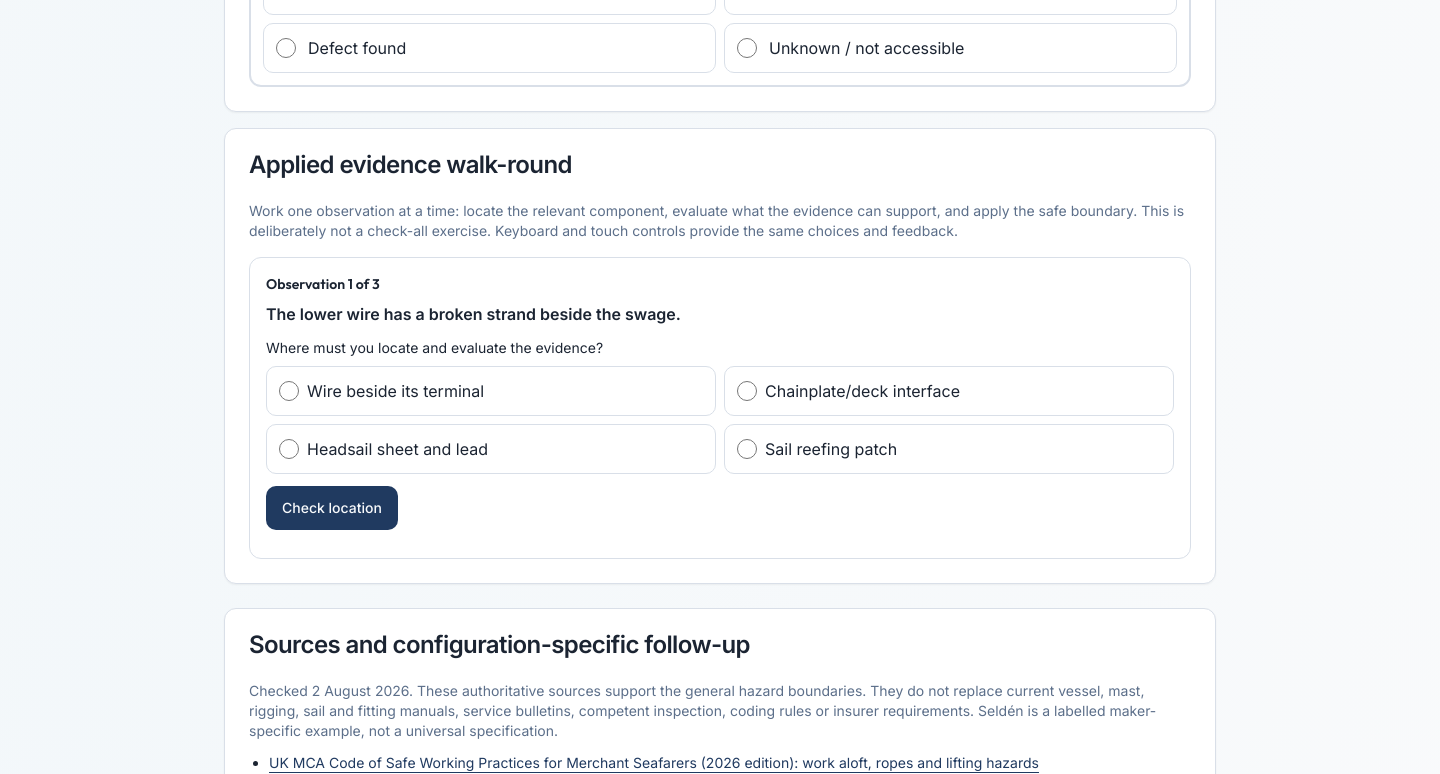
Scenario: RigTheory honest durable outcomes › blocks completion until the safe evidence decision is correct
(page scrolled)
Click the radio button labelled "Wire beside its terminal".
click(289, 391)  # box [279,381,299,401]
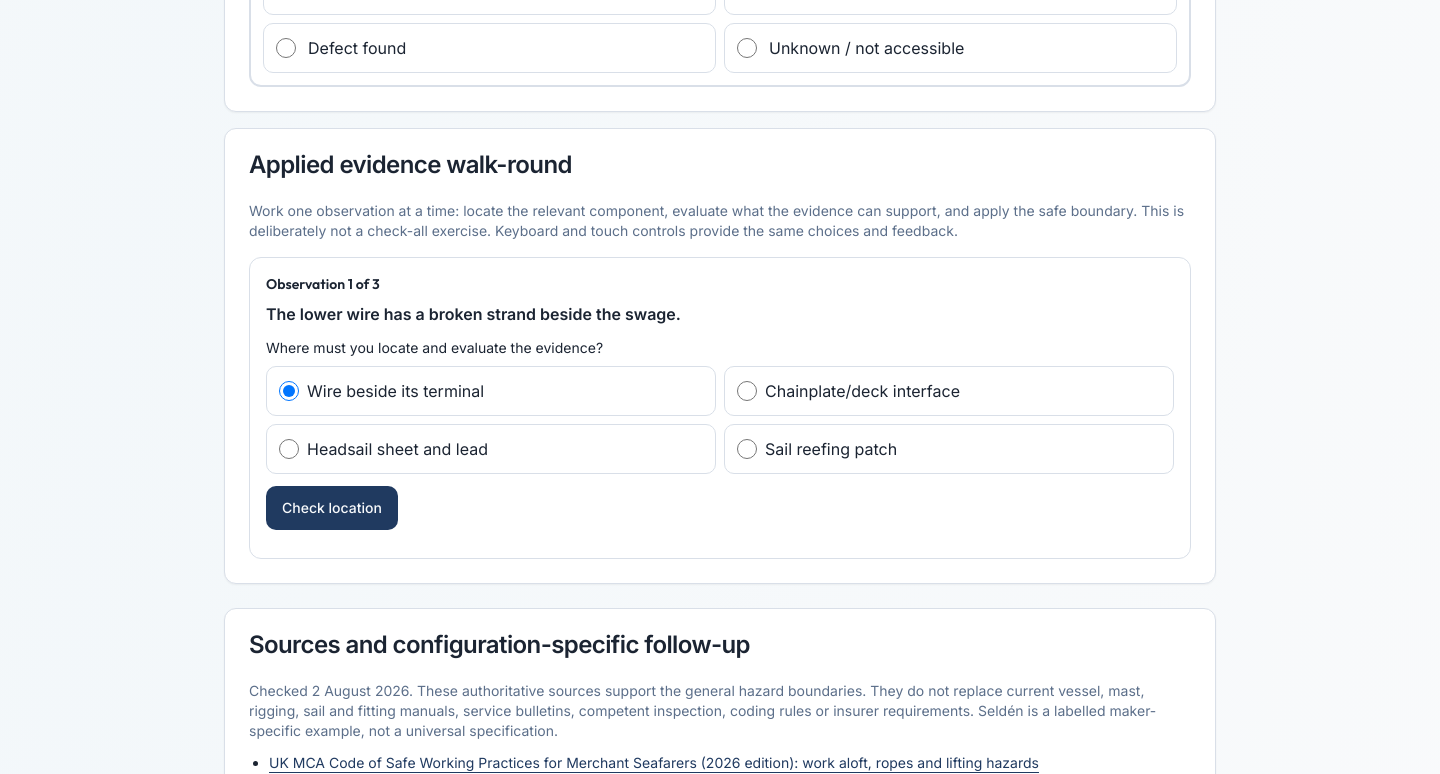
Click the button "Check location".
click(332, 508)  # box [266,486,398,530]
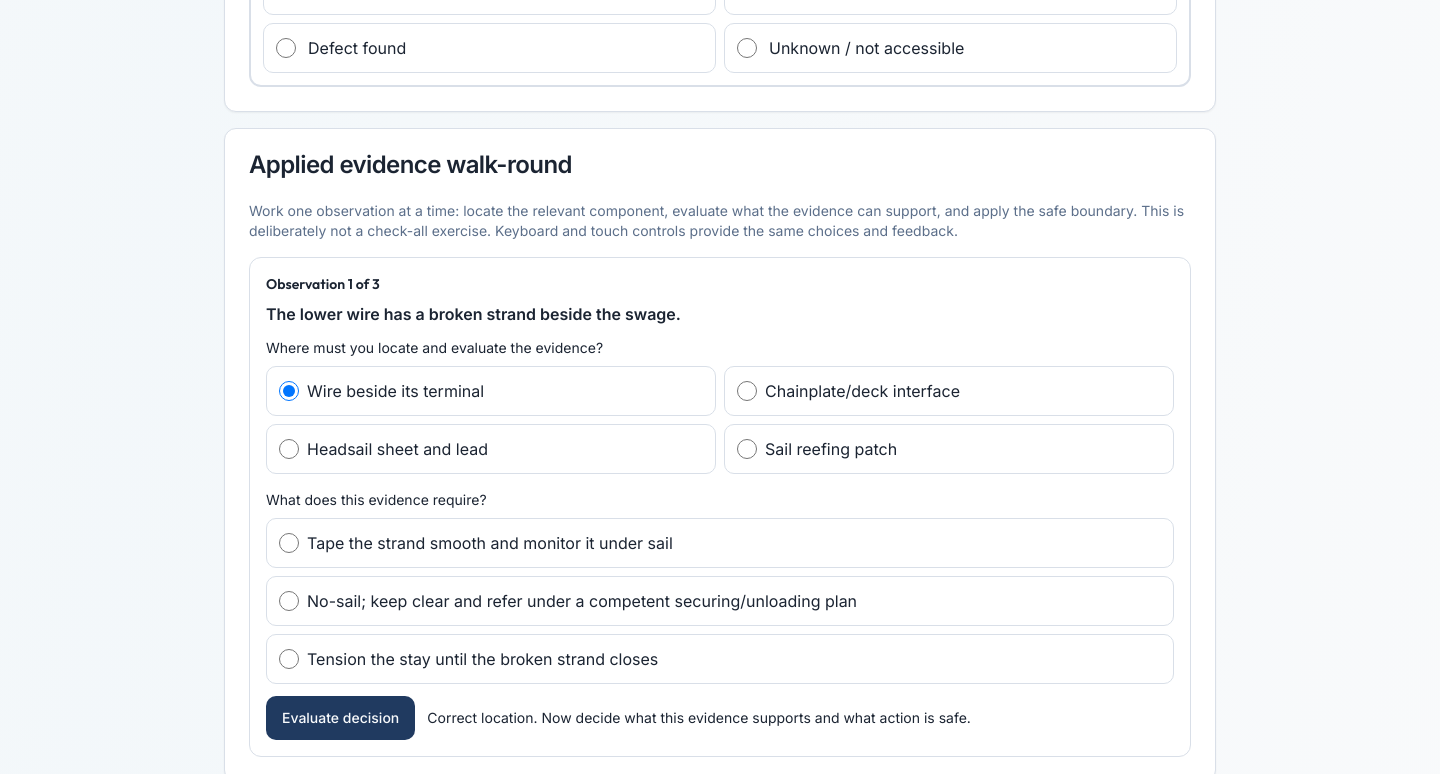
Click the radio button labelled "Tape the strand smooth and monitor it under sail".
click(289, 543)  # box [279,533,299,553]
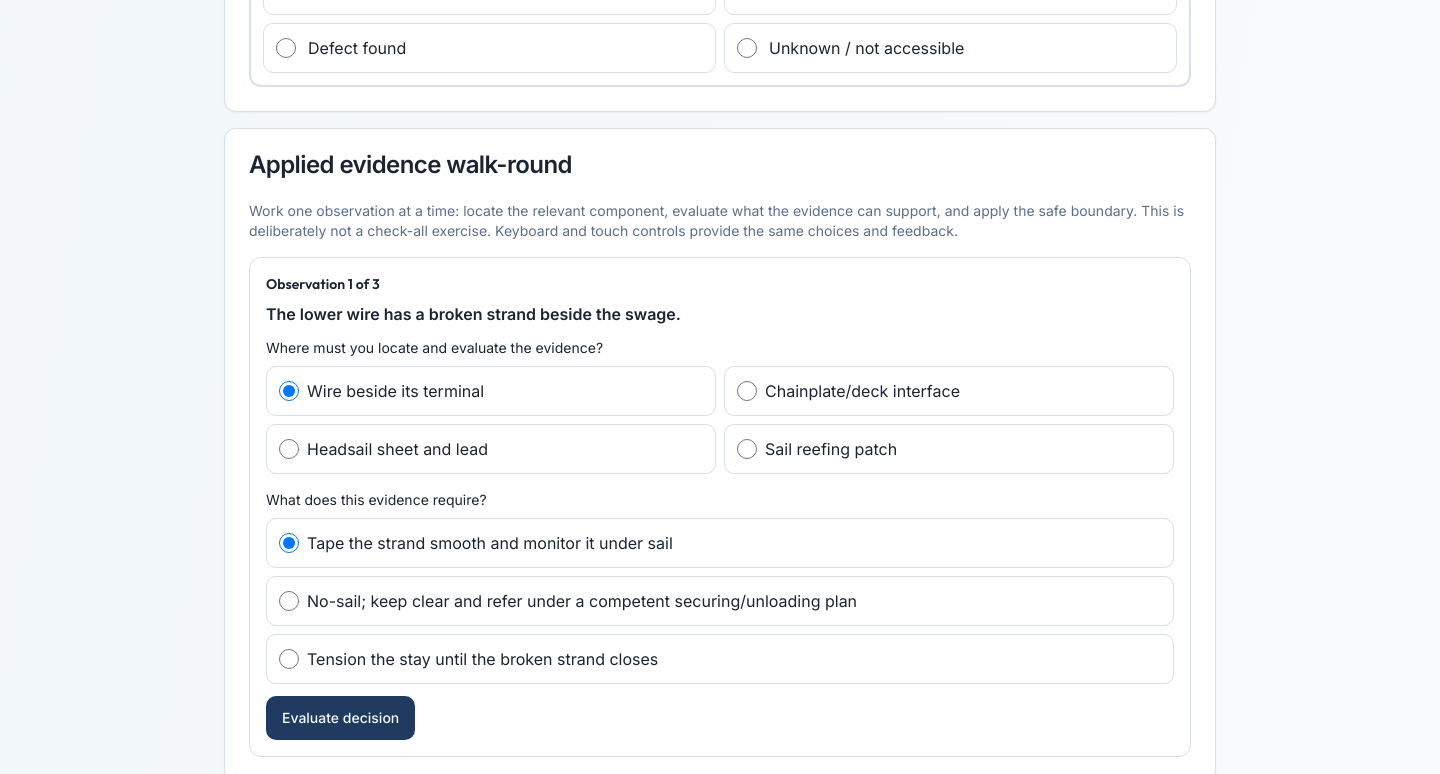
Click the button "Evaluate decision".
click(341, 718)  # box [266,696,415,740]
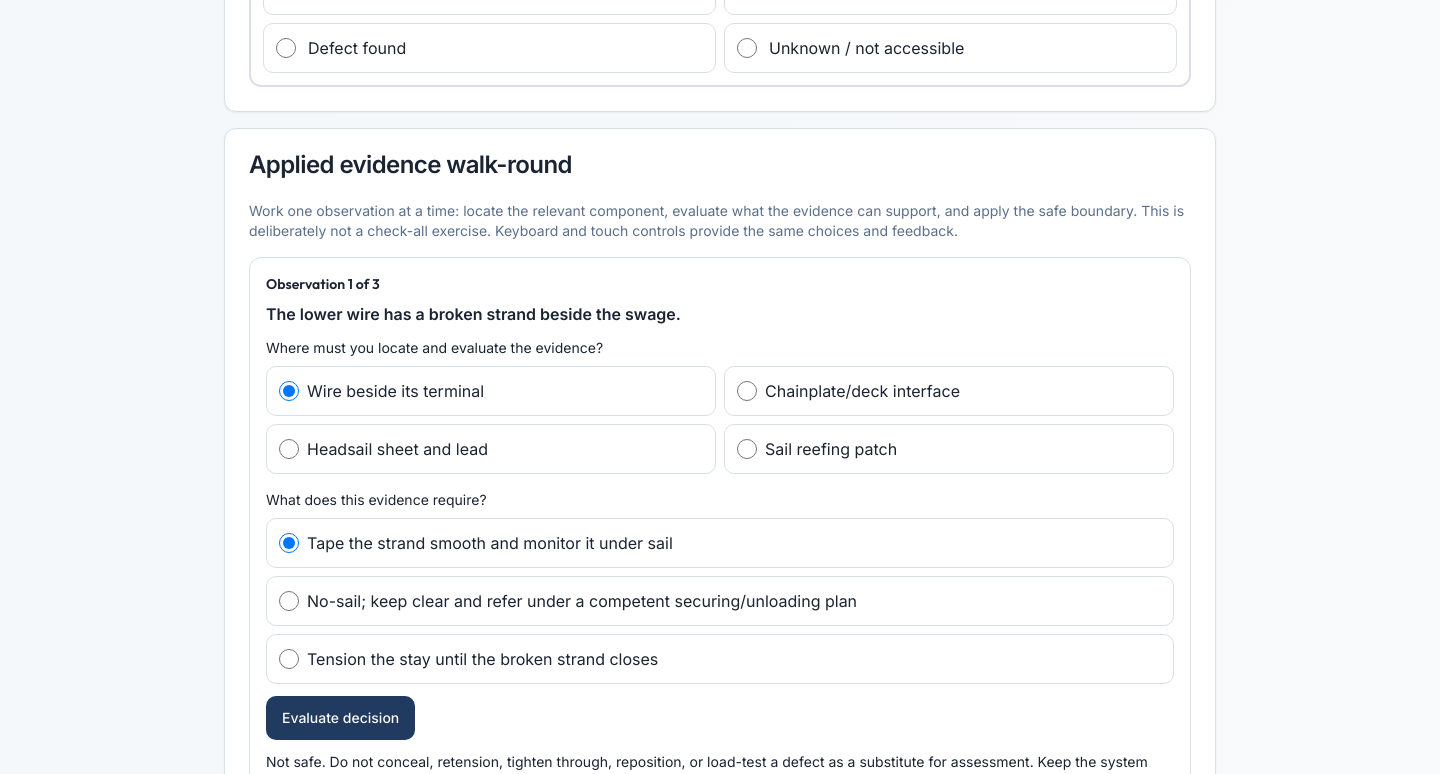
Expected: the button "Next observation" is not shown
Click the radio button labelled "No-sail; keep clear and refer".
click(289, 601)  # box [279,591,299,611]
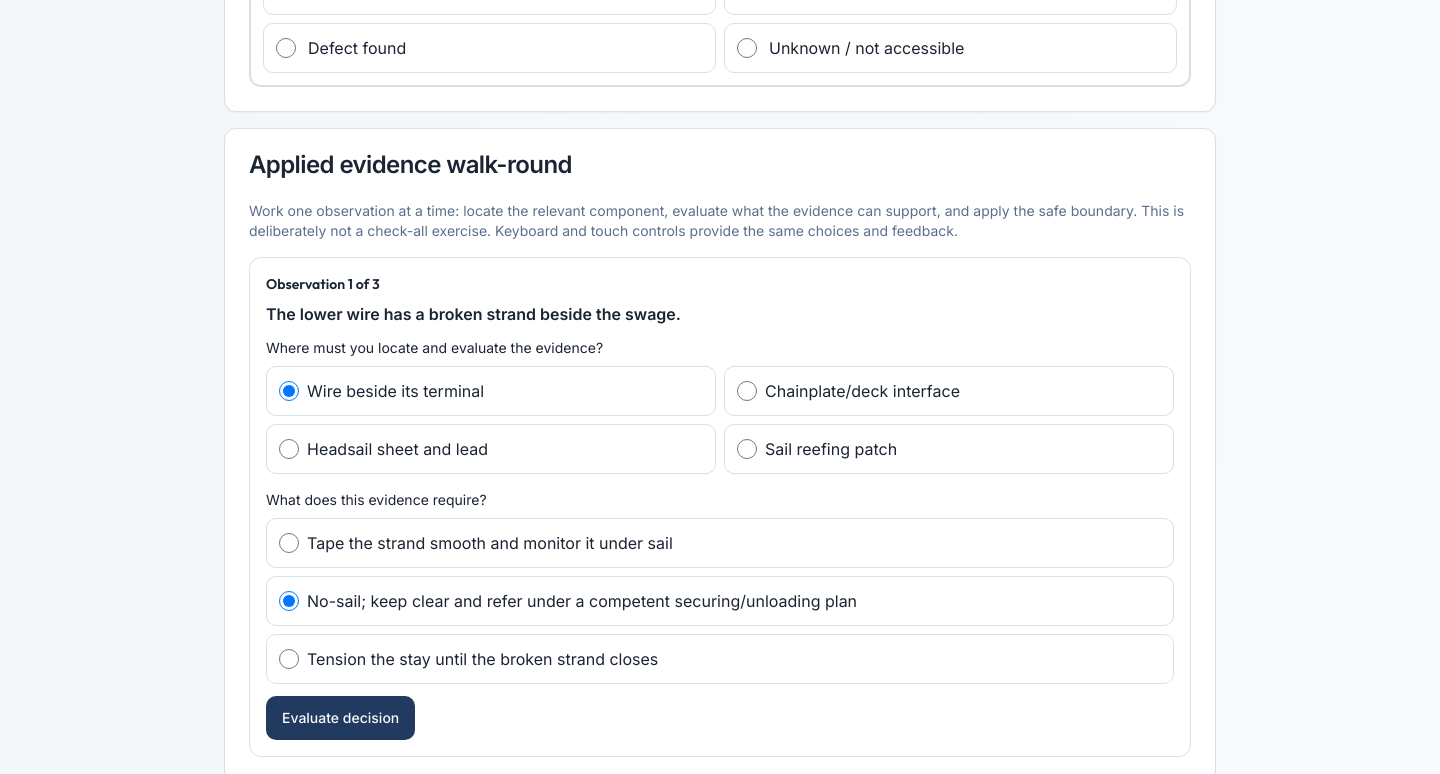
Click the button "Evaluate decision".
click(341, 718)  # box [266,696,415,740]
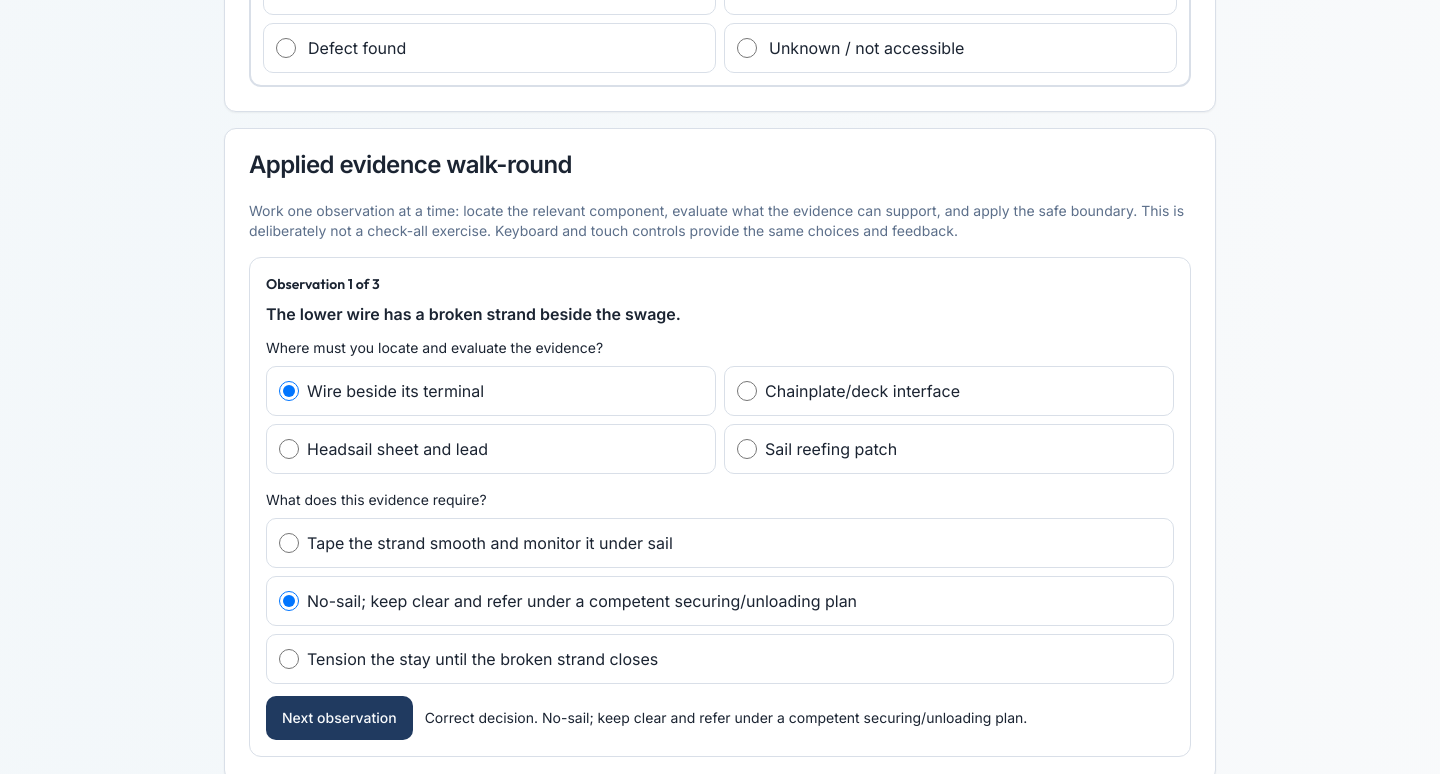
Now the button "Next observation" is shown, box [266,696,413,740]
